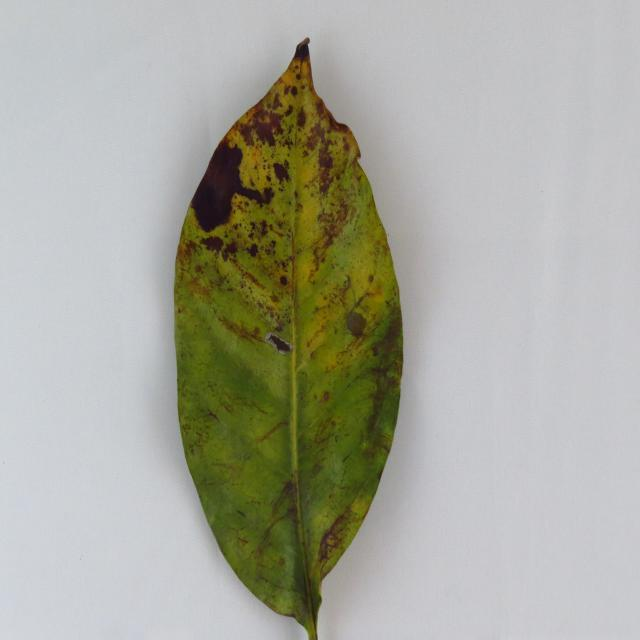DeficienciaNutricional-Potasio: (175, 40, 402, 638)
